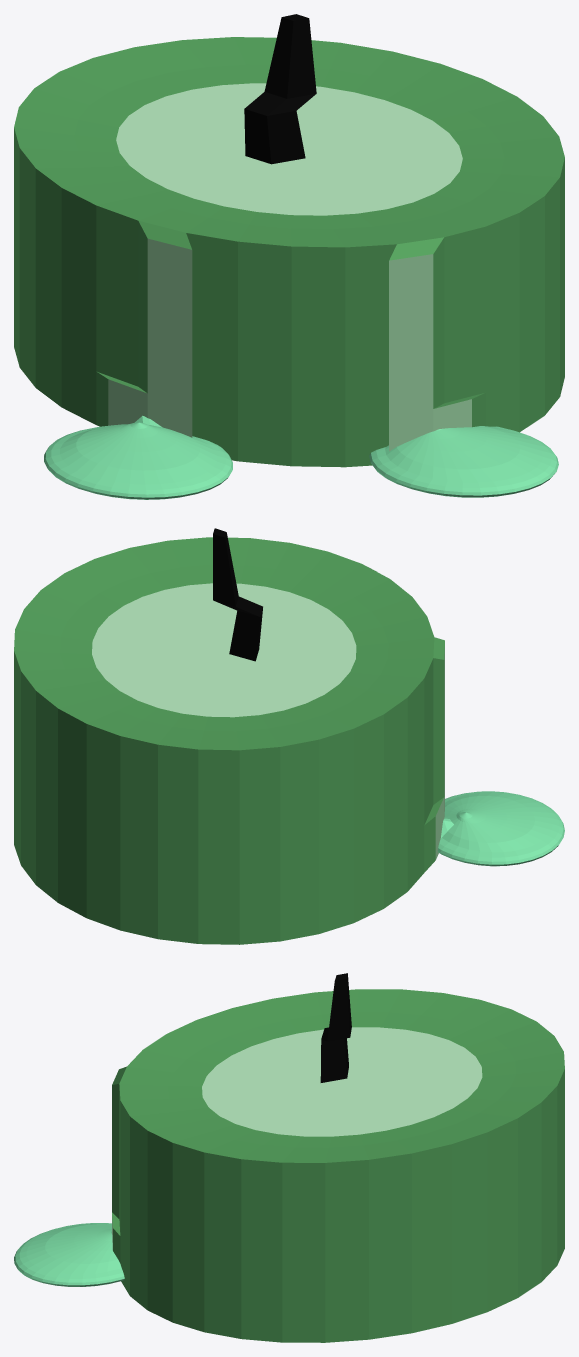
The model's file is vela3.fbx.
3 views of the same model, one above another, from view 1: azimuth 30°, elevation 25°; view 2: azimuth 150°, elevation 25°; view 3: azimuth 270°, elevation 25° (orthographic). The views are drawn at different scales.
Parts seen in each view (by area): view 1: Sphere.001; view 2: Sphere.001; view 3: Sphere.001.
Boxes of the visible parts, x1,y1,x2,y2 form: Sphere.001: [14, 14, 564, 499]; Sphere.001: [14, 528, 564, 944]; Sphere.001: [14, 973, 564, 1342].
Bounding box in the file's own units: 72.1 × 45.72 × 80.73.
